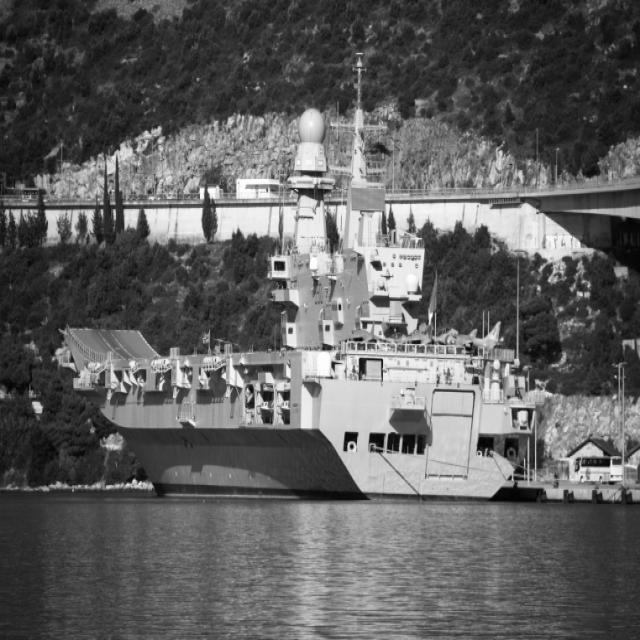Portanaves: (59, 53, 548, 501)
